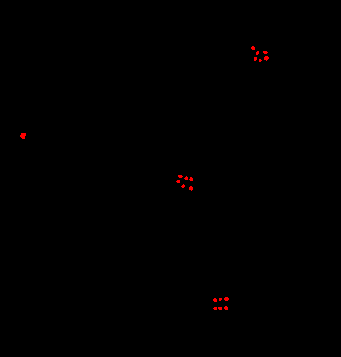Target: (20, 133, 26, 139), (264, 56, 269, 61), (189, 186, 193, 191), (224, 297, 229, 301), (251, 46, 255, 50), (184, 176, 188, 180), (189, 177, 193, 181), (181, 184, 185, 188), (213, 298, 217, 302), (224, 306, 228, 310), (263, 51, 268, 54), (178, 175, 183, 178), (256, 51, 259, 55), (254, 57, 257, 61), (176, 180, 180, 183), (213, 307, 217, 310), (218, 307, 222, 310), (259, 59, 262, 62), (219, 298, 222, 301)
